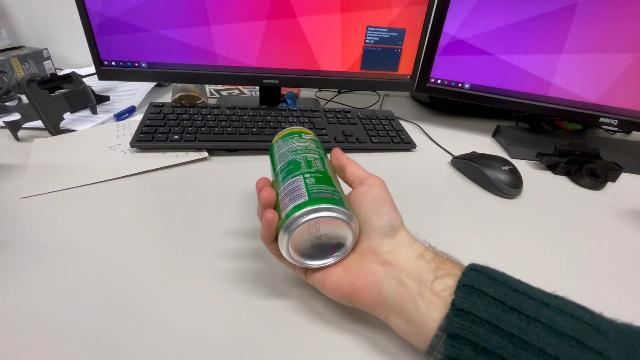Sprite: (266, 122, 364, 274)
